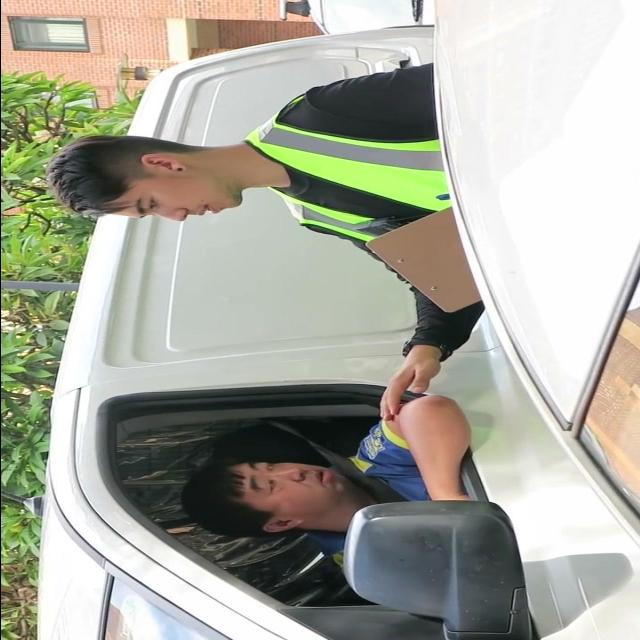jacket: (241, 83, 455, 247)
